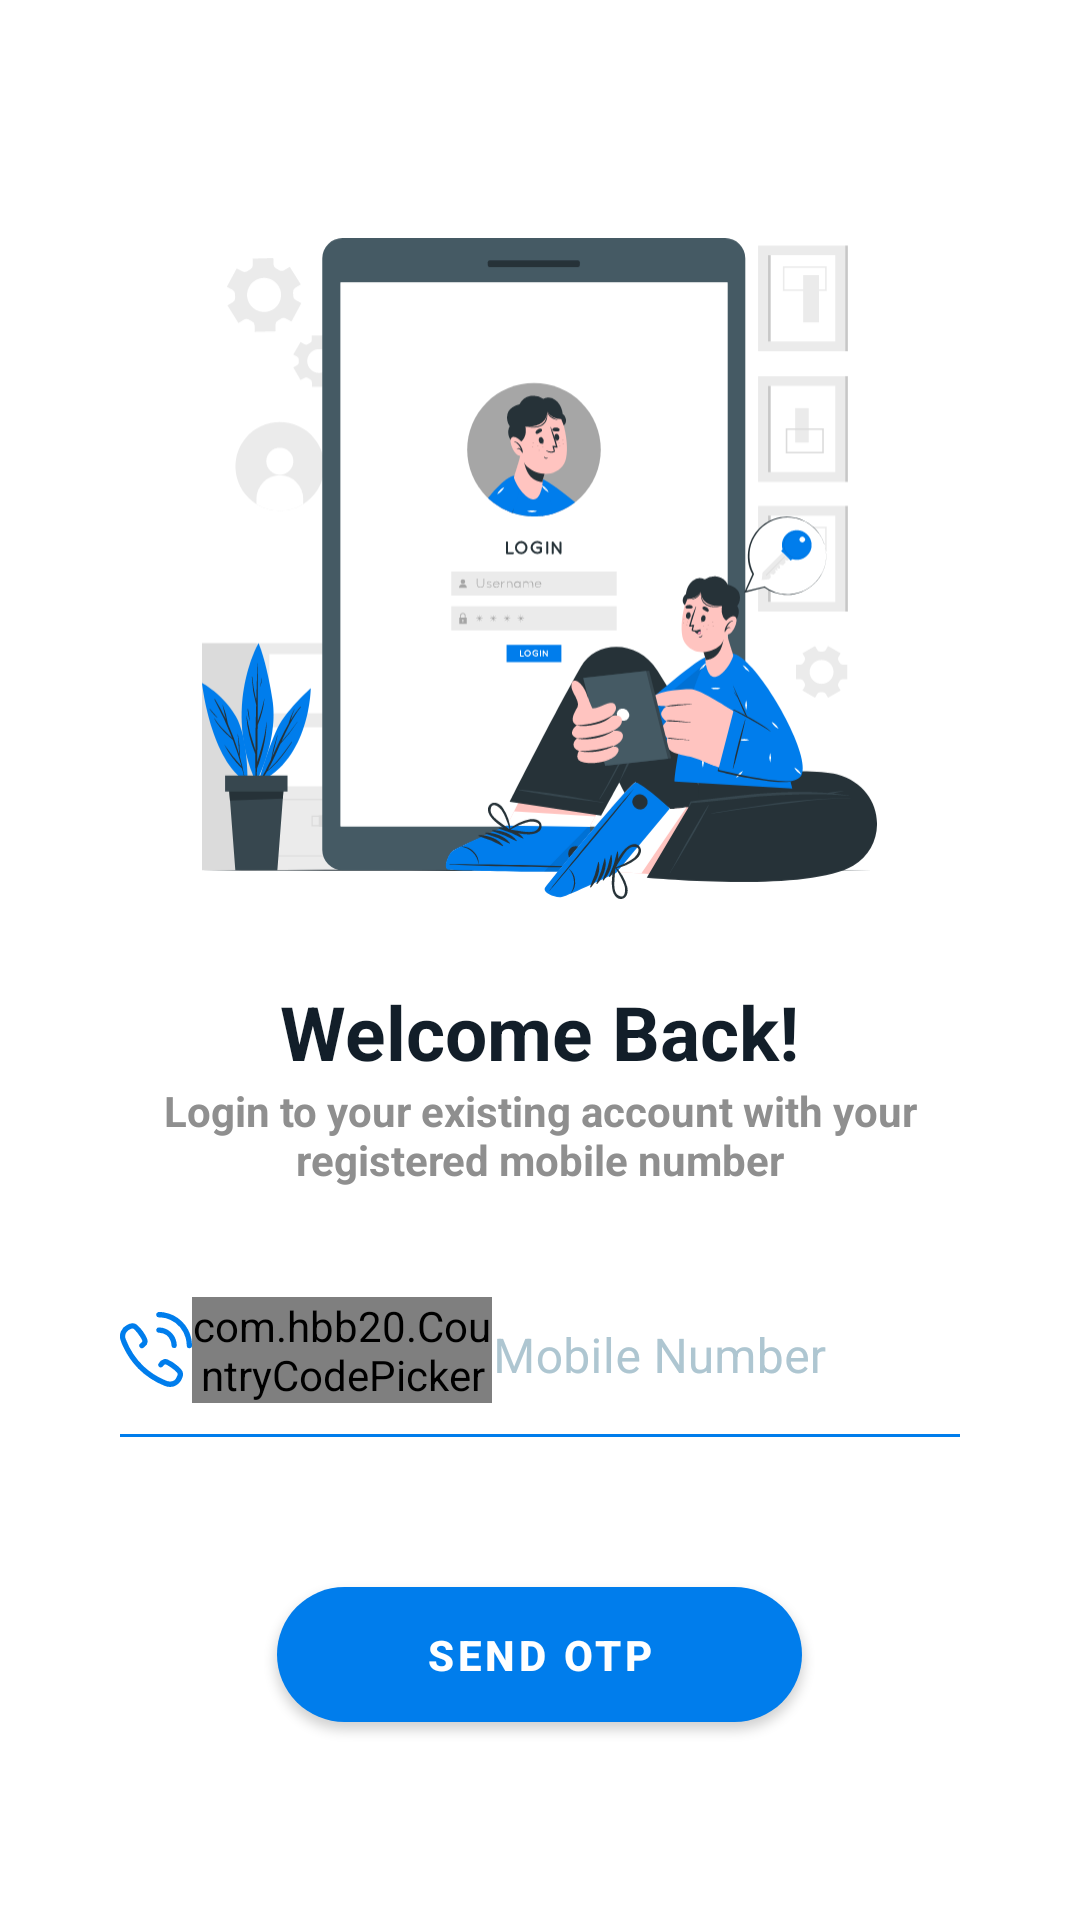

Icon click points for this 1080 × 1920 phone screenshot, format point (x, y):
call: point (151, 1355)
